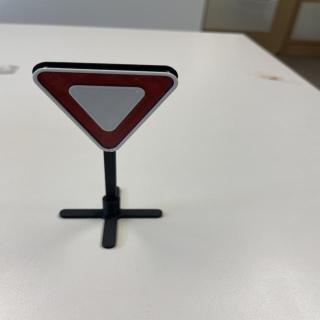sign_yield: (31, 62, 185, 158)
